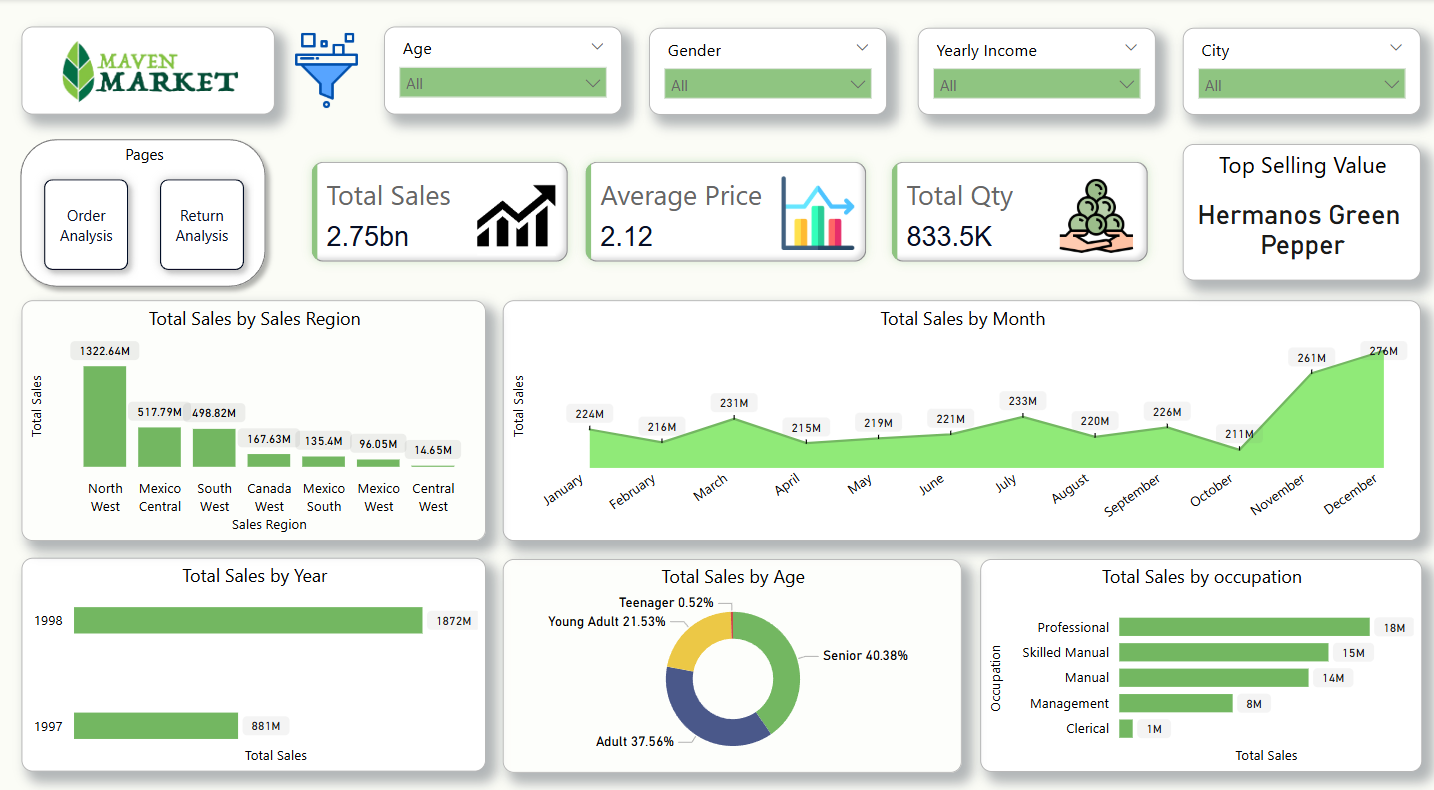

The dashboard page shown, as its layout file describes it:
{"tool":"powerbi","page":{"name":"Sales Analysis","canvas":[1280,720],"ordinal":0},"visuals":[{"type":"areaChart","fields":{"Category":["MavenMarket_Calendar.date.Variation.Date Hierarchy.Month"],"Y":["MavenMarket_Products.Total Sales"]},"box":[448.8,267.8,818,214.7],"z":0},{"type":"barChart","fields":{"Y":["MavenMarket_Products.Total Sales"],"Category":["MavenMarket_Calendar.date.Variation.Date Hierarchy.Year"]},"box":[20.5,497.1,413.8,190.6],"z":1000},{"type":"columnChart","title":"Total Sales by Sales Region","fields":{"Category":["MavenMarket_Regions.sales_region"],"Y":["MavenMarket_Products.Total Sales"]},"box":[20.5,267.8,413.8,214.7],"z":2000},{"type":"barChart","fields":{"Y":["MavenMarket_Products.Total Sales"],"Category":["MavenMarket_Customers.occupation"]},"box":[873.5,498.3,393.3,189.4],"z":3000},{"type":"donutChart","title":"Total Sales by Age","fields":{"Category":["MavenMarket_Customers.Group Age"],"Y":["MavenMarket_Products.Total Sales"]},"box":[448.8,498.3,409,190.6],"z":4000},{"type":"card","title":"Top Selling Value","fields":{"Values":["MavenMarket_Products.Top Selling Product"]},"box":[1054.4,129.1,212.3,121.9],"z":5000},{"type":"image","box":[20.5,24.1,225.6,78.4],"z":6000},{"type":"image","box":[214.7,24.1,153.2,78.4],"z":7000},{"type":"slicer","fields":{"Values":["MavenMarket_Customers.Age"]},"box":[342.6,24.1,212.3,78.4],"z":8000},{"type":"slicer","fields":{"Values":["MavenMarket_Customers.gender"]},"box":[579.1,25.3,212.3,77.2],"z":9000},{"type":"slicer","fields":{"Values":["MavenMarket_Customers.customer_city"]},"box":[1054.4,25.3,212.3,77.2],"z":10000},{"type":"slicer","fields":{"Values":["MavenMarket_Customers.yearly_income"]},"box":[818,25.3,212.3,77.2],"z":11000},{"type":"cardVisual","fields":{"Data":["MavenMarket_Products.Total Sales"]},"box":[263,129.1,260.6,121.9],"z":12000},{"type":"cardVisual","fields":{"Data":["MavenMarket_Transactions_1997.Total Qty"]},"box":[779.4,129.1,260.6,121.9],"z":13000},{"type":"cardVisual","fields":{"Data":["Avg(MavenMarket_Products.product_retail_price)"]},"box":[506.7,129.1,282.3,121.9],"z":14000},{"type":"shape","box":[9.7,115.8,236.5,149.6],"z":15000},{"type":"pageNavigator","title":"Pages","box":[31.4,129.1,196.6,121.9],"z":16000}]}

Visuals, with their boxes in screenshot pixels (x1, y1, x2, y2), scaled from the page's 1280x720 canvas onto the 1434x790 screenshot:
areaChart - MavenMarket_Calendar.date.Variation.Date Hierarchy.Month x MavenMarket_Products.Total Sales: 503,294,1419,529
barChart - MavenMarket_Products.Total Sales x MavenMarket_Calendar.date.Variation.Date Hierarchy.Year: 23,545,487,755
"Total Sales by Sales Region" columnChart: 23,294,487,529
barChart - MavenMarket_Products.Total Sales x MavenMarket_Customers.occupation: 979,547,1419,755
"Total Sales by Age" donutChart: 503,547,961,756
"Top Selling Value" card: 1181,142,1419,275
image: 23,26,276,112
image: 241,26,412,112
slicer - MavenMarket_Customers.Age: 384,26,622,112
slicer - MavenMarket_Customers.gender: 649,28,887,112
slicer - MavenMarket_Customers.customer_city: 1181,28,1419,112
slicer - MavenMarket_Customers.yearly_income: 916,28,1154,112
cardVisual - MavenMarket_Products.Total Sales: 295,142,587,275
cardVisual - MavenMarket_Transactions_1997.Total Qty: 873,142,1165,275
cardVisual - Avg(MavenMarket_Products.product_retail_price): 568,142,884,275
shape: 11,127,276,291
"Pages" pageNavigator: 35,142,255,275
